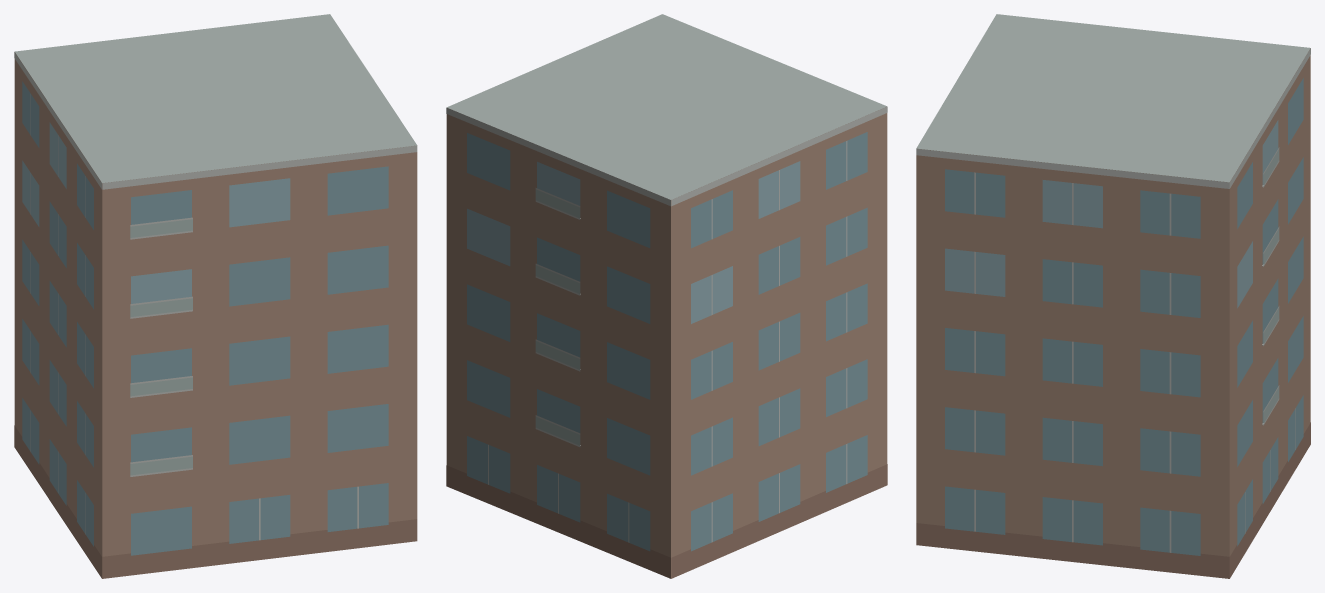
Rendered from survey-upis-32880095.glb.
The picture shows the model from 3 angles, left to right: view 1: azimuth 30°, elevation 25°; view 2: azimuth 150°, elevation 25°; view 3: azimuth 270°, elevation 25°; orthographic projection. The views are drawn at different scales.
Parts seen in each view (by area): view 1: survey-upis-32880095.tmp; view 2: survey-upis-32880095.tmp; view 3: survey-upis-32880095.tmp.
Part boxes in pixels (<box>): survey-upis-32880095.tmp: <box>14,14,417,578</box>; survey-upis-32880095.tmp: <box>446,14,887,578</box>; survey-upis-32880095.tmp: <box>916,14,1310,578</box>.
Bounding box in the file's own units: 13.21 × 14.5 × 13.09.
